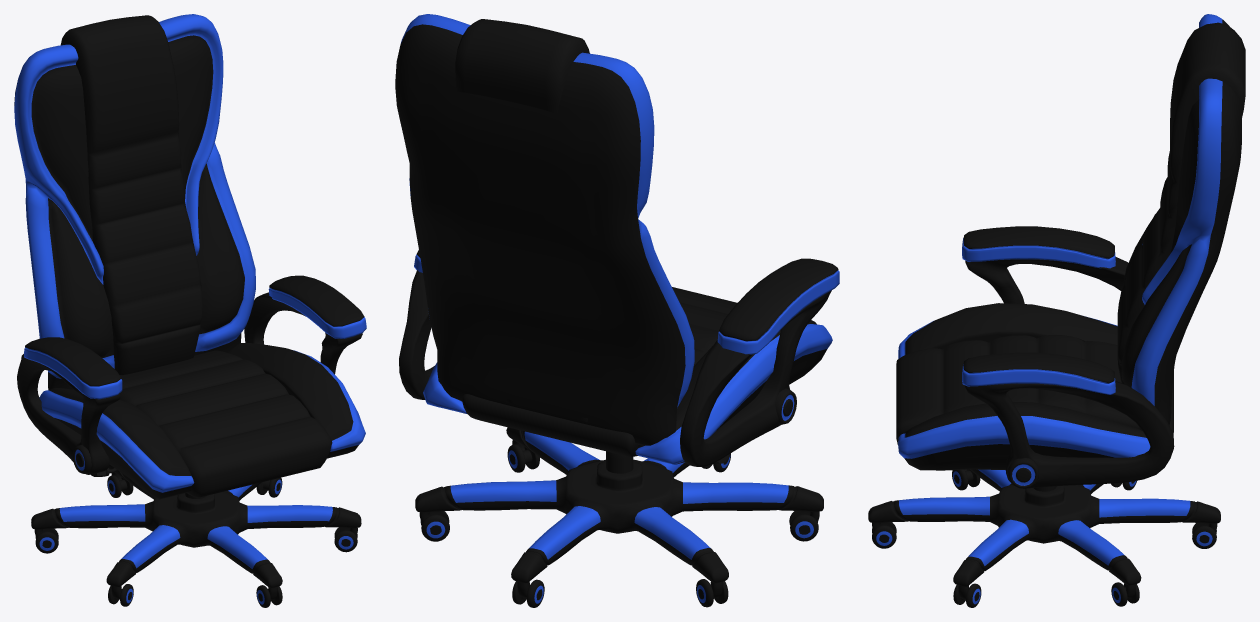
The model's file is CHAIR.fbx.
3 renders of one model, left to right at view 1: azimuth 30°, elevation 25°; view 2: azimuth 150°, elevation 25°; view 3: azimuth 270°, elevation 25°, orthographic. The views are drawn at different scales.
Parts seen in each view (by area): view 1: Box013, Box018, Box019, Cylinder017, Cylinder022, Cylinder015, Cylinder019; view 2: Box013, Box019, Cylinder017, Box018, Cylinder022, Cylinder020, Cylinder018, Cylinder024; view 3: Box018, Box013, Box019, Cylinder022, Cylinder017, Cylinder025, Cylinder024.
Boxes of the visible parts, <box> form: Box013: <box>14,14,255,390</box>; Box018: <box>39,343,365,499</box>; Box019: <box>31,464,361,599</box>; Cylinder017: <box>17,337,122,474</box>; Cylinder022: <box>244,275,366,374</box>; Cylinder015: <box>35,528,58,553</box>; Cylinder019: <box>334,527,357,552</box>; Box013: <box>395,14,694,445</box>; Box019: <box>415,427,823,598</box>; Cylinder017: <box>680,258,839,466</box>; Box018: <box>423,287,832,464</box>; Cylinder022: <box>399,250,434,399</box>; Cylinder020: <box>789,511,818,541</box>; Cylinder018: <box>420,511,449,541</box>; Cylinder024: <box>512,579,544,607</box>; Box018: <box>896,303,1173,470</box>; Box013: <box>1117,14,1245,430</box>; Box019: <box>868,469,1220,599</box>; Cylinder022: <box>962,352,1174,488</box>; Cylinder017: <box>962,226,1128,303</box>; Cylinder025: <box>872,522,896,548</box>; Cylinder024: <box>1192,523,1216,548</box>.
Size of the model in its own units: 358 by 573 by 389.
